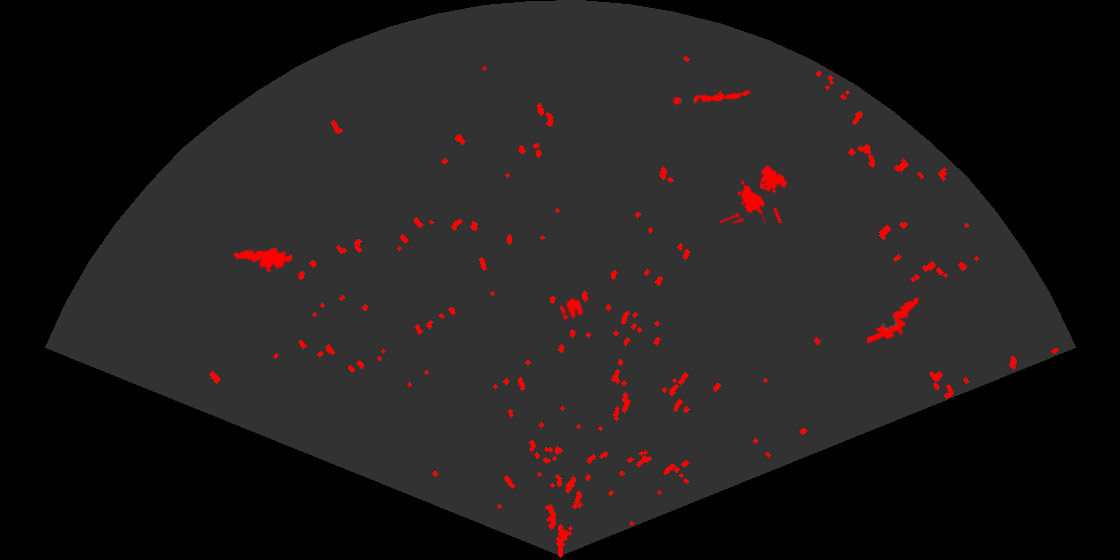ball: (558, 296, 585, 322)
cage: (720, 164, 789, 223)
chain: (671, 89, 752, 107)
frogman: (867, 296, 921, 345), (231, 246, 292, 274)
